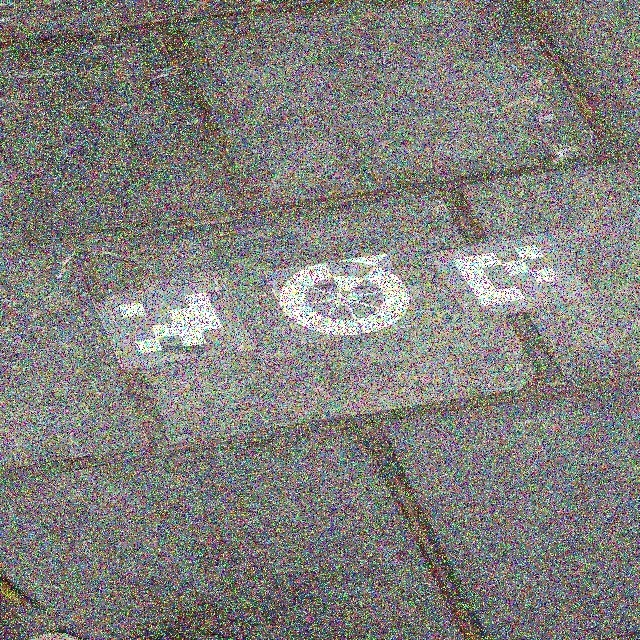landing-zone: (270, 250, 418, 344)
